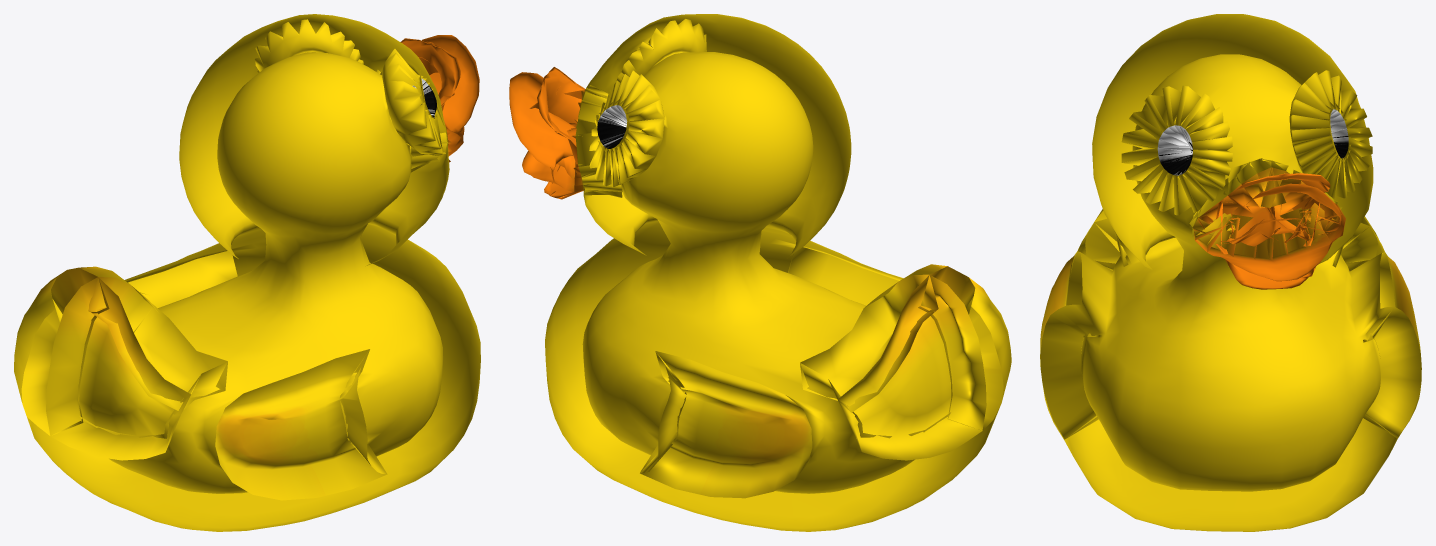
Rendered from duck.glb.
3 renders of one model, left to right at view 1: azimuth 30°, elevation 25°; view 2: azimuth 150°, elevation 25°; view 3: azimuth 270°, elevation 25°, orthographic. The views are drawn at different scales.
Visible parts, largest first — view 1: LOD3spShape; view 2: LOD3spShape; view 3: LOD3spShape.
Boxes of the visible parts, x1,y1,x2,y2 form: LOD3spShape: (14,14,480,531); LOD3spShape: (509,14,1011,531); LOD3spShape: (1040,14,1421,531).
Bounding box in the file's own units: 1.65 × 1.54 × 1.15.
Materials: 1 (1 with a texture image).
